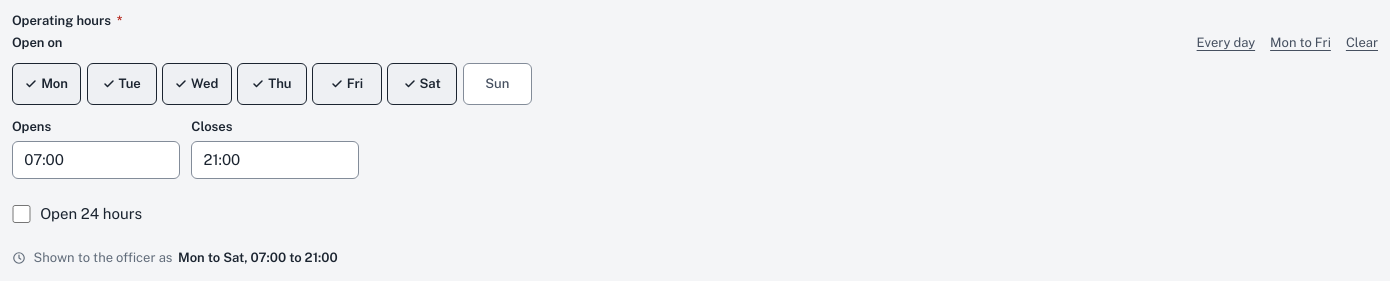
Test case: HoursField › Open 24 hours hides the times, and unticking brings back the last ones
Click the checkbox labelled "Open 24 hours": (21, 214) [12,204,31,223]
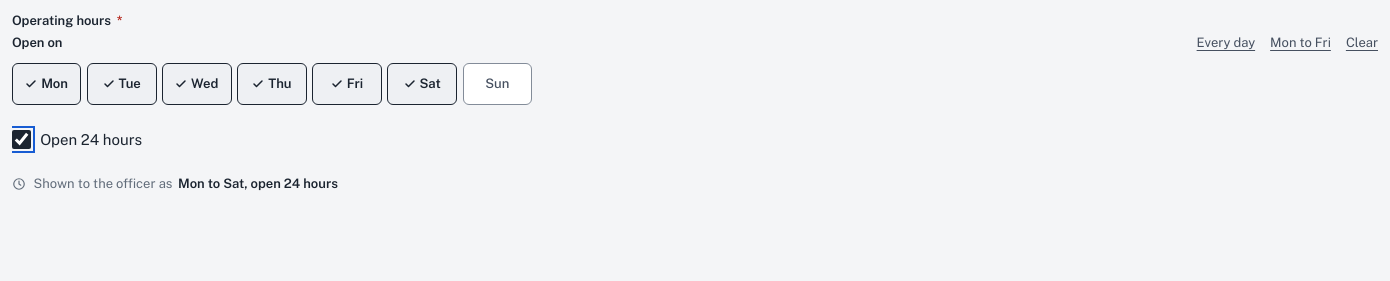
Now the label labelled "Opens" is gone
Now the label labelled "Closes" is gone
Now the text "Mon to Sat, open 24 hours" is shown, box [178,175,338,193]
Click the checkbox labelled "Open 24 hours": (21, 140) [12,130,31,149]
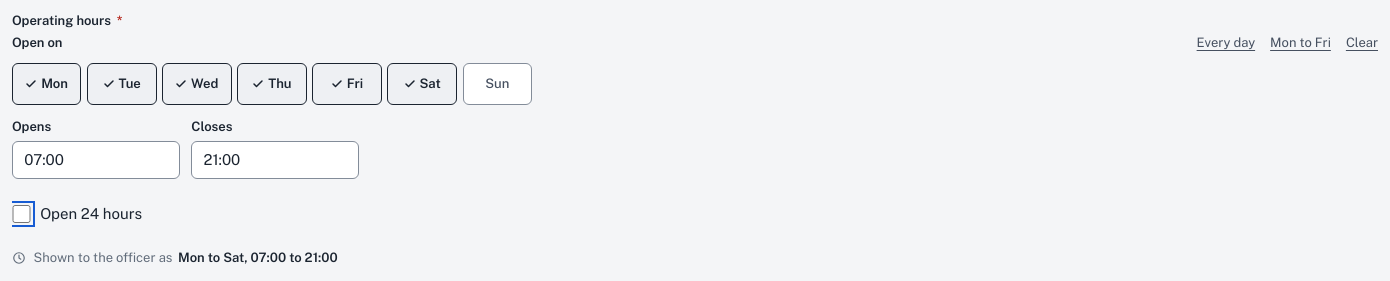
Now the dropdown labelled "Opens" shows "07:00", box [12,141,180,179]
Now the dropdown labelled "Closes" shows "21:00", box [191,141,359,179]
